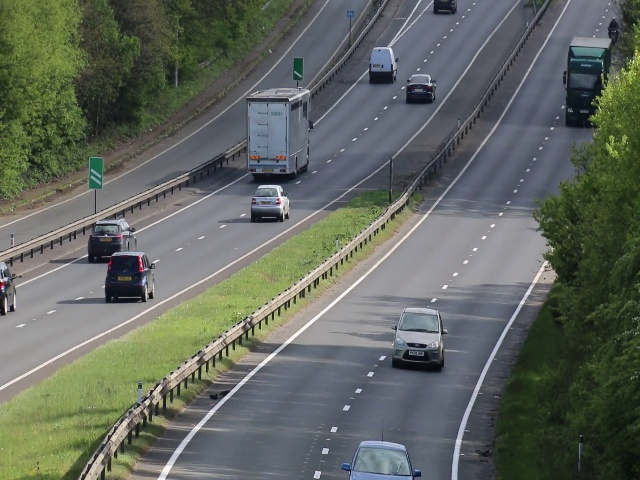car: (250, 87, 313, 181), (391, 305, 447, 371), (566, 38, 598, 126), (104, 252, 155, 306), (87, 219, 140, 263), (250, 185, 292, 222), (366, 44, 398, 84), (404, 72, 436, 101)
